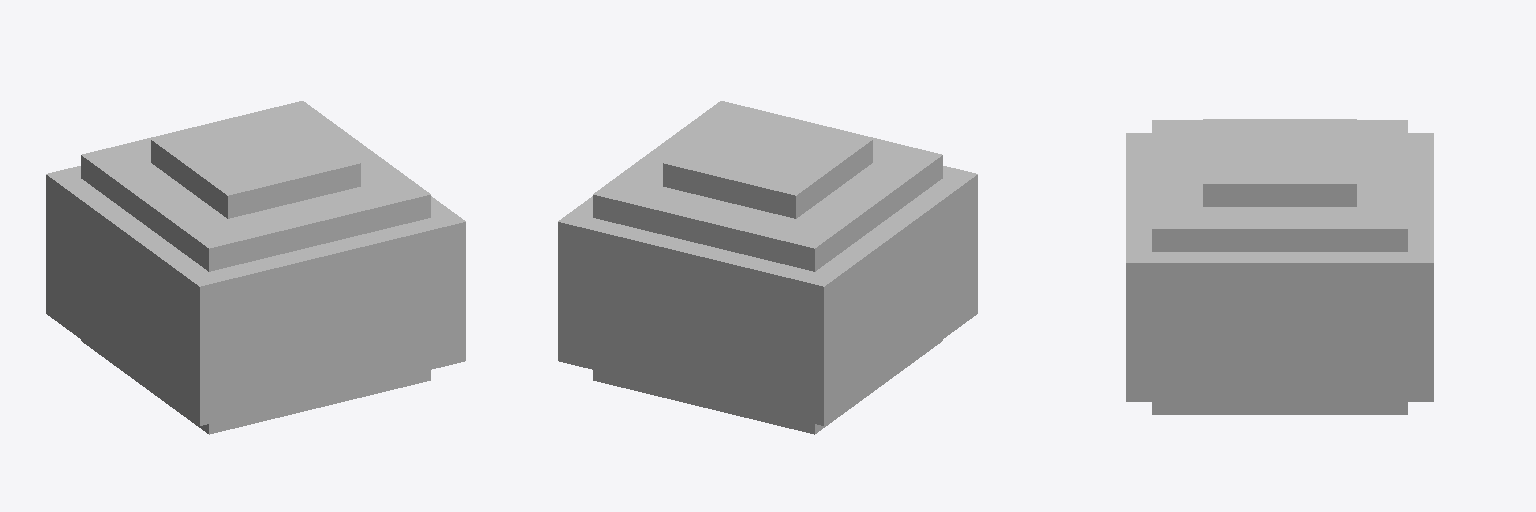
The model's file is slime.obj.
The picture shows the model from 3 angles: view 1: azimuth 30°, elevation 25°; view 2: azimuth 150°, elevation 25°; view 3: azimuth 270°, elevation 25°; orthographic projection.
Visible parts, largest first — view 1: cube; view 2: cube; view 3: cube.
Boxes of the visible parts, x1,y1,x2,y2 form: cube: [46, 101, 465, 434]; cube: [558, 101, 977, 434]; cube: [1126, 119, 1433, 414].
Bounding box in the file's own units: 0.75 × 0.5625 × 0.75.